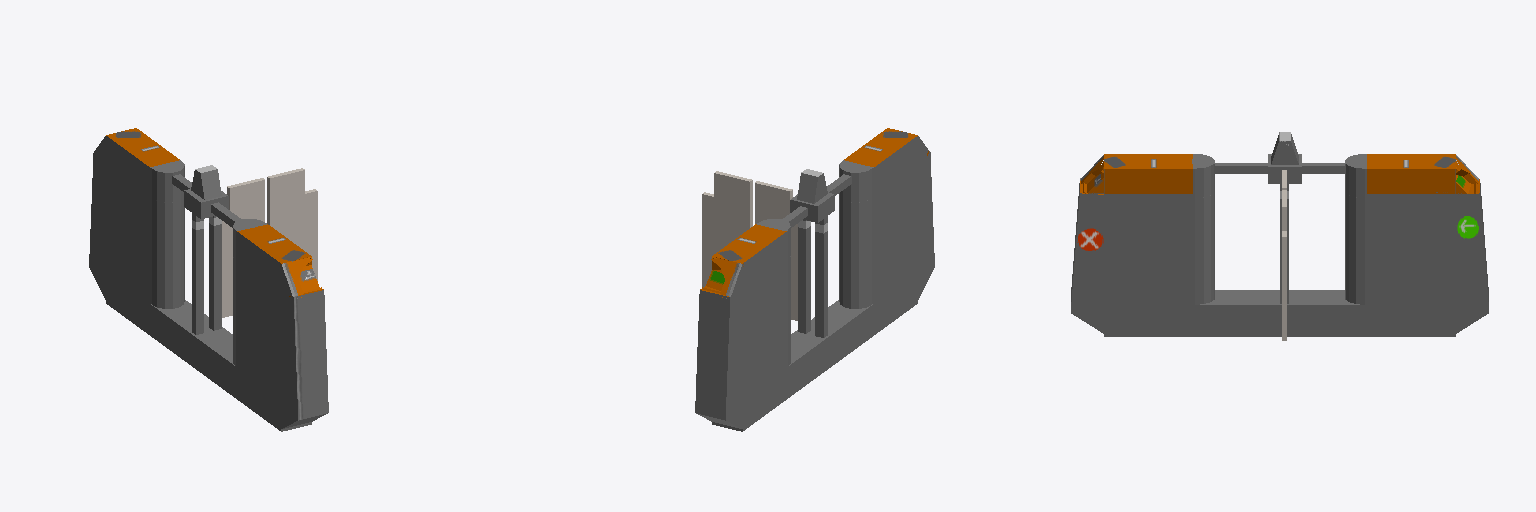
The picture shows the model from 3 angles: view 1: azimuth 30°, elevation 25°; view 2: azimuth 150°, elevation 25°; view 3: azimuth 270°, elevation 25°; orthographic projection.
Parts seen in each view (by area): view 1: cube; view 2: cube; view 3: cube.
Part boxes in pixels (x1,y1,x2,y2): cube: (89, 128, 328, 431); cube: (695, 128, 934, 431); cube: (1071, 132, 1488, 340).
Size of the model in its own units: 1.02 by 1.51 by 2.96.
Materials: 1 (1 with a texture image).